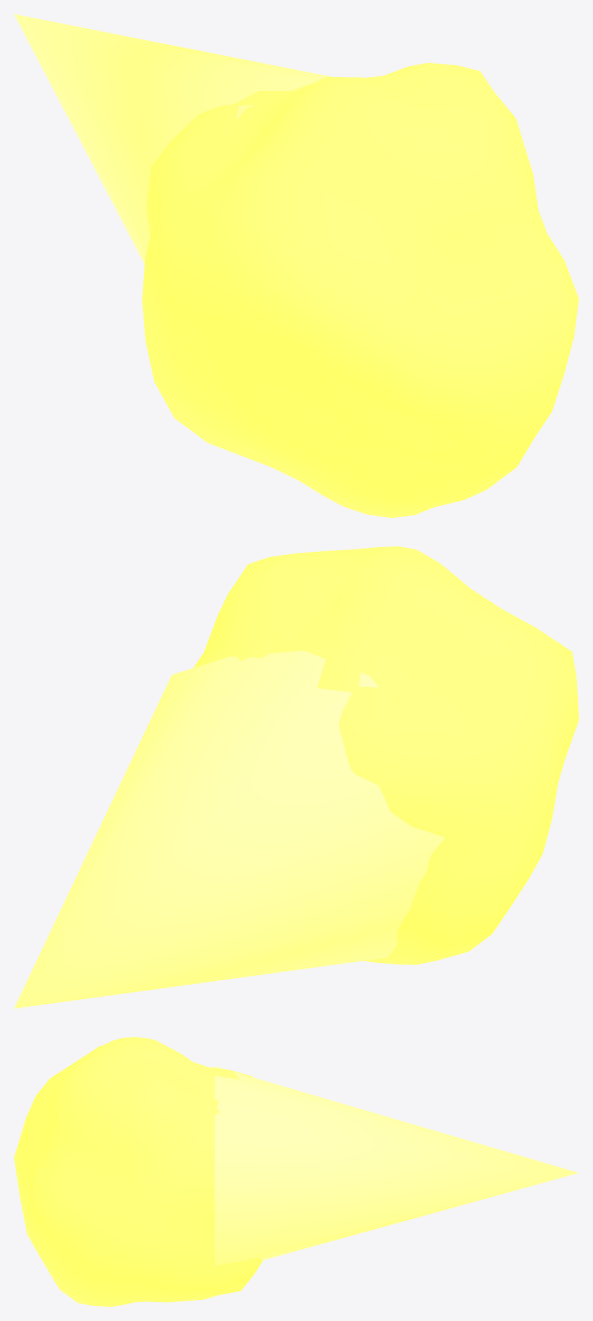
The model's file is Fireball.fbx.
3 views of the same model, one above another, from view 1: azimuth 30°, elevation 25°; view 2: azimuth 150°, elevation 25°; view 3: azimuth 270°, elevation 25° (orthographic). The views are drawn at different scales.
Visible parts, largest first — view 1: Fireball_Outer, Fireball_Tail; view 2: Fireball_Tail, Fireball_Outer; view 3: Fireball_Outer, Fireball_Tail.
Part boxes in pixels (bbox=[...]): Fireball_Outer: bbox=[142, 63, 578, 517]; Fireball_Tail: bbox=[14, 14, 331, 263]; Fireball_Tail: bbox=[14, 650, 444, 1008]; Fireball_Outer: bbox=[193, 546, 578, 964]; Fireball_Outer: bbox=[14, 1037, 262, 1306]; Fireball_Tail: bbox=[214, 1066, 578, 1265].
Size of the model in its own units: 98.43 by 107 by 217.
